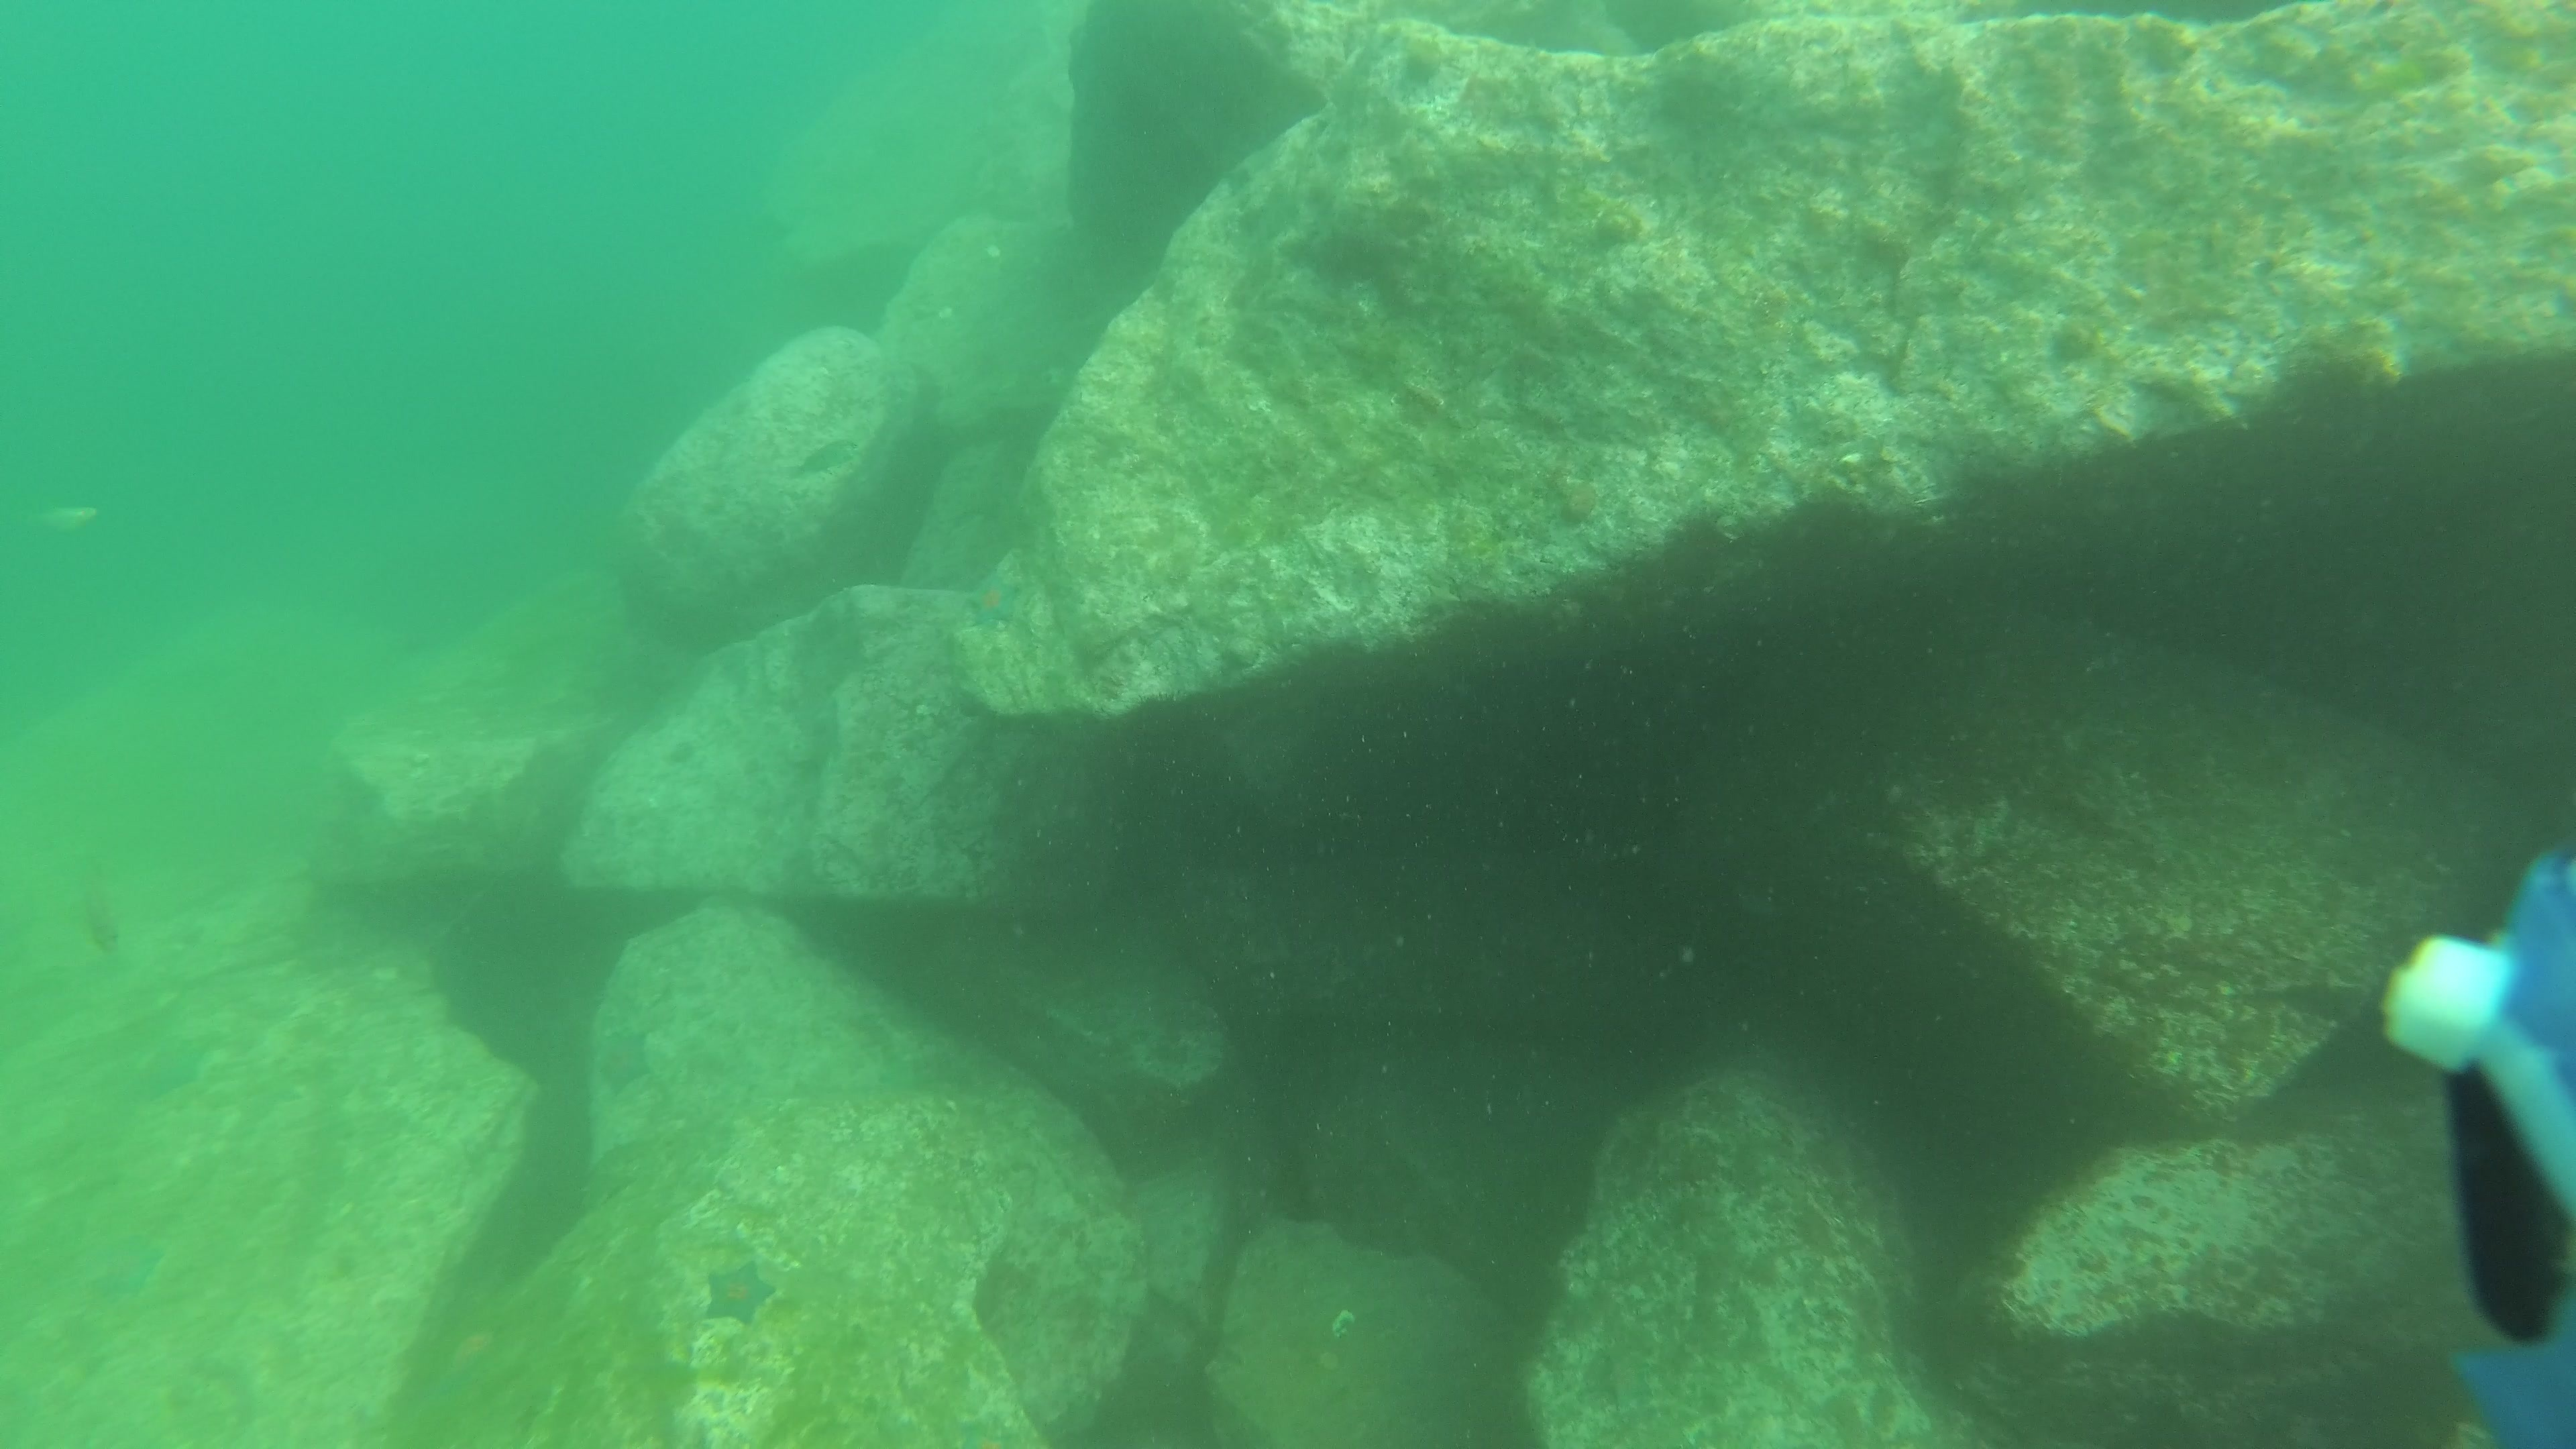starfish: (697, 1256, 782, 1329), (589, 1024, 658, 1097), (959, 566, 1030, 630)
